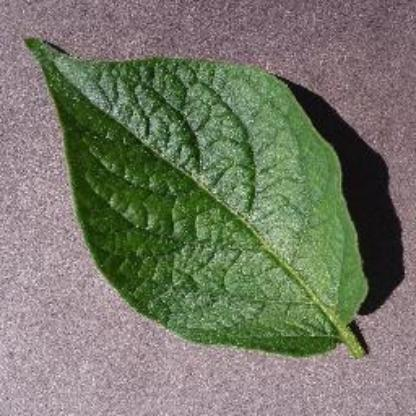Healthy-plant: (15, 31, 383, 371)
